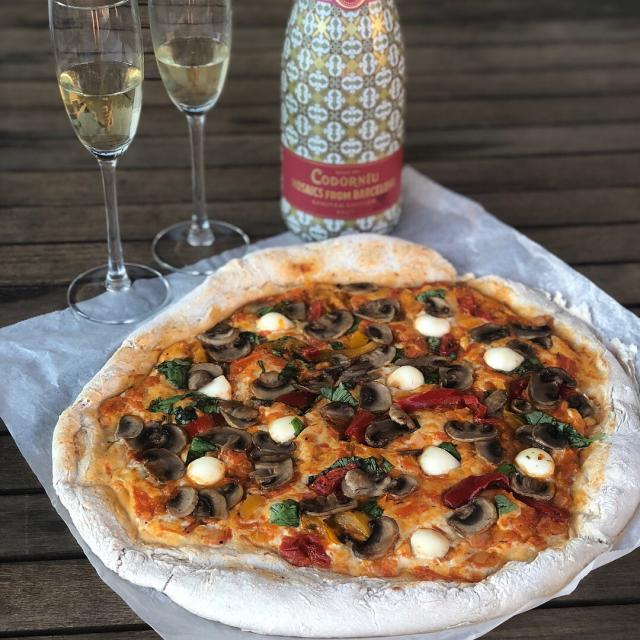basil: (525, 410, 605, 451), (300, 453, 395, 483), (148, 389, 218, 426), (267, 496, 301, 531), (154, 355, 190, 388), (495, 356, 543, 377), (318, 383, 358, 406), (186, 435, 217, 457), (360, 496, 383, 525), (495, 495, 519, 518), (418, 286, 447, 302), (494, 460, 523, 476), (435, 441, 462, 458), (422, 334, 442, 355), (256, 303, 287, 316), (248, 330, 269, 347), (268, 347, 288, 362), (273, 333, 299, 343), (290, 419, 304, 436), (324, 337, 342, 350), (255, 358, 266, 378), (281, 359, 300, 369)
mushrooms: (528, 362, 590, 419), (445, 416, 504, 468), (343, 517, 398, 562), (342, 470, 417, 502), (366, 400, 420, 444), (132, 445, 186, 487), (125, 420, 187, 454), (200, 322, 252, 360), (469, 323, 552, 346), (198, 421, 253, 454), (446, 497, 496, 533), (248, 367, 296, 401), (248, 458, 296, 492), (509, 469, 556, 502), (482, 388, 532, 419), (317, 354, 373, 381), (214, 394, 258, 428), (433, 358, 474, 394), (300, 493, 360, 516), (250, 427, 299, 455), (305, 311, 355, 338), (192, 486, 228, 521), (356, 378, 392, 412), (108, 410, 144, 440), (188, 359, 224, 388), (166, 486, 198, 518), (358, 300, 400, 323), (394, 350, 446, 368), (217, 480, 243, 509), (292, 376, 332, 394), (366, 321, 394, 346), (316, 399, 352, 418), (506, 338, 538, 358), (362, 349, 397, 367), (426, 295, 452, 318), (282, 302, 306, 322), (340, 280, 378, 292), (244, 301, 269, 311)
pizza: (50, 231, 640, 640)
